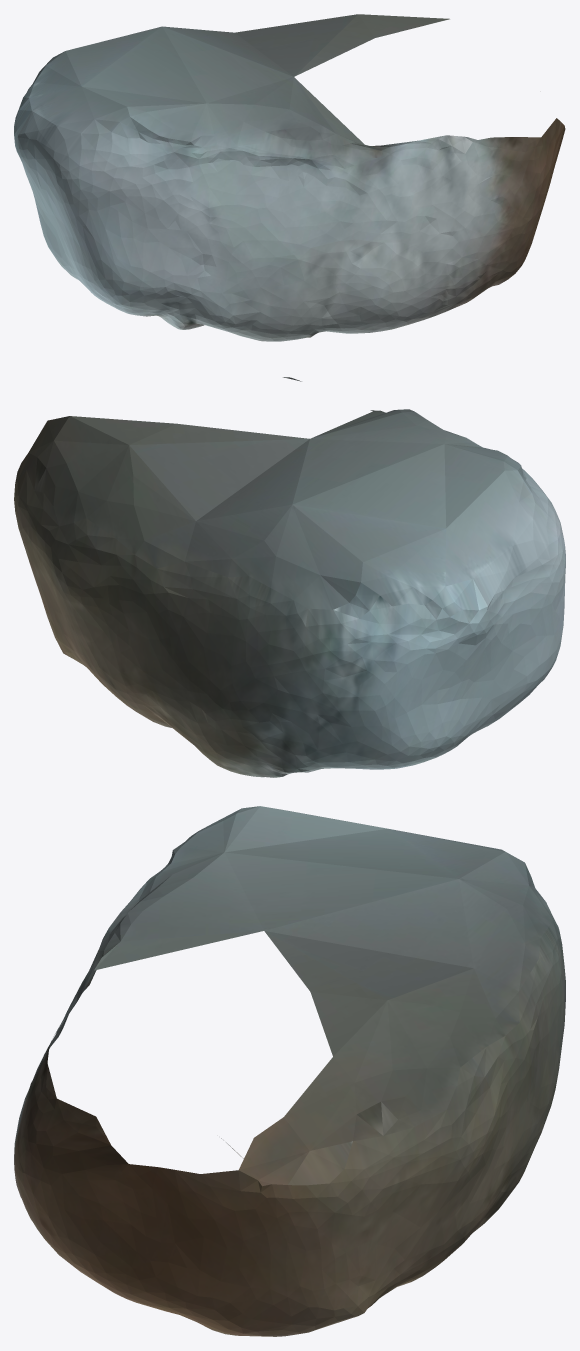
The model's file is pierre2.glb.
3 views of the same model, one above another, from view 1: azimuth 30°, elevation 25°; view 2: azimuth 150°, elevation 25°; view 3: azimuth 270°, elevation 25° (orthographic). The views are drawn at different scales.
Size of the model in its own units: 0.2338 by 0.1203 by 0.18.
1 material, 1 textured.
